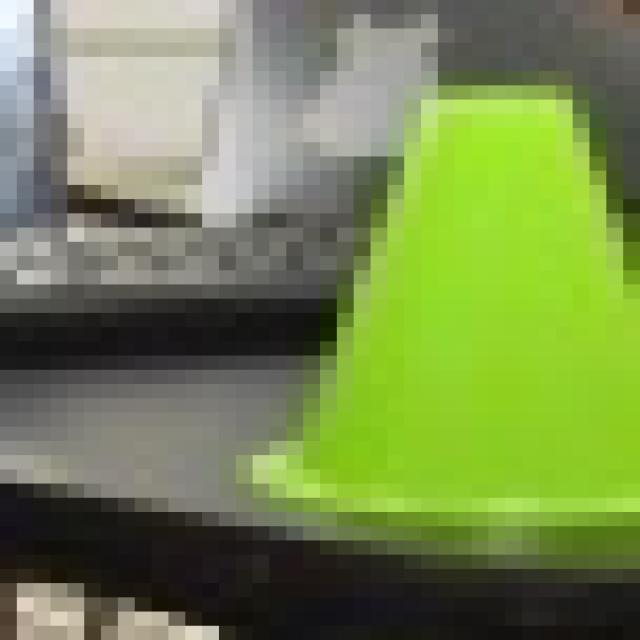cono: (236, 71, 623, 541)
